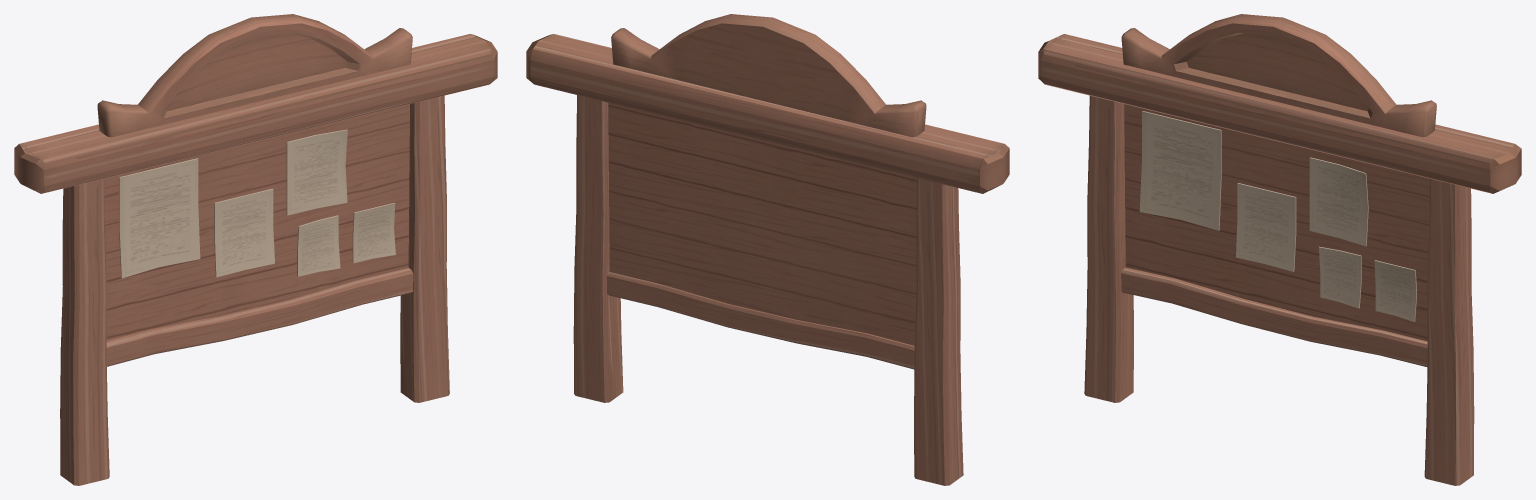
Rendered from callboard.fbx.
3 views of the same model, side by side, from view 1: azimuth 30°, elevation 25°; view 2: azimuth 150°, elevation 25°; view 3: azimuth 330°, elevation 25° (orthographic).
Visible parts, largest first — view 1: Сallboard, paper; view 2: Сallboard; view 3: Сallboard, paper.
Part boxes in pixels (left/top/right/bottom): Сallboard: left=14, top=14, right=497, bottom=485; paper: left=119, top=129, right=395, bottom=278; Сallboard: left=526, top=14, right=1009, bottom=485; Сallboard: left=1038, top=14, right=1521, bottom=485; paper: left=1139, top=111, right=1416, bottom=322.
Bounding box in the file's own units: 149 × 125 × 15.
